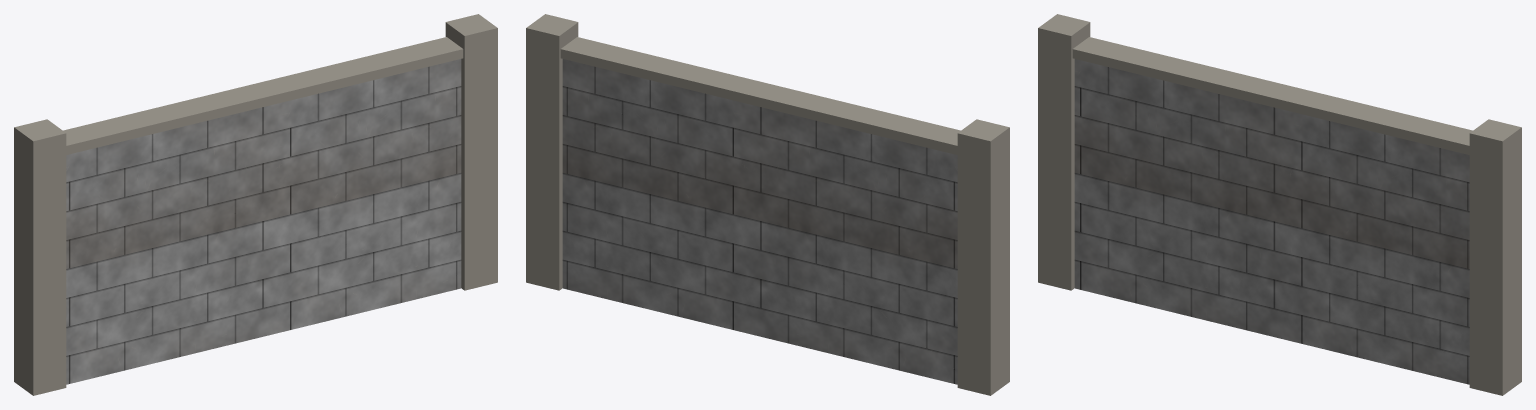
Rendered from BlockWall.fbx.
3 renders of one model, left to right at view 1: azimuth 30°, elevation 25°; view 2: azimuth 150°, elevation 25°; view 3: azimuth 330°, elevation 25°, orthographic.
Visible parts, largest first — view 1: BlockWall; view 2: BlockWall; view 3: BlockWall.
Part boxes in pixels (x1,y1,x2,y2): BlockWall: (14, 14, 497, 395); BlockWall: (526, 14, 1009, 395); BlockWall: (1038, 14, 1521, 395).
Bounding box in the file's own units: 4.2 × 2.2 × 0.3.
